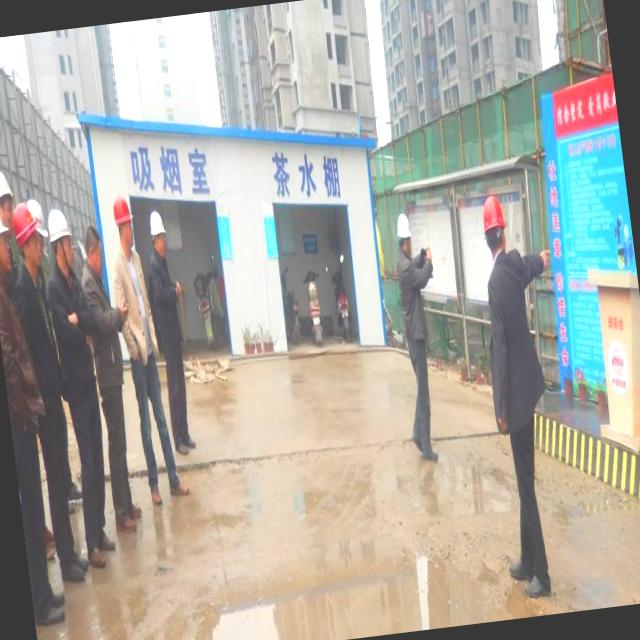helmet: (477, 188, 508, 233), (392, 207, 414, 252)
